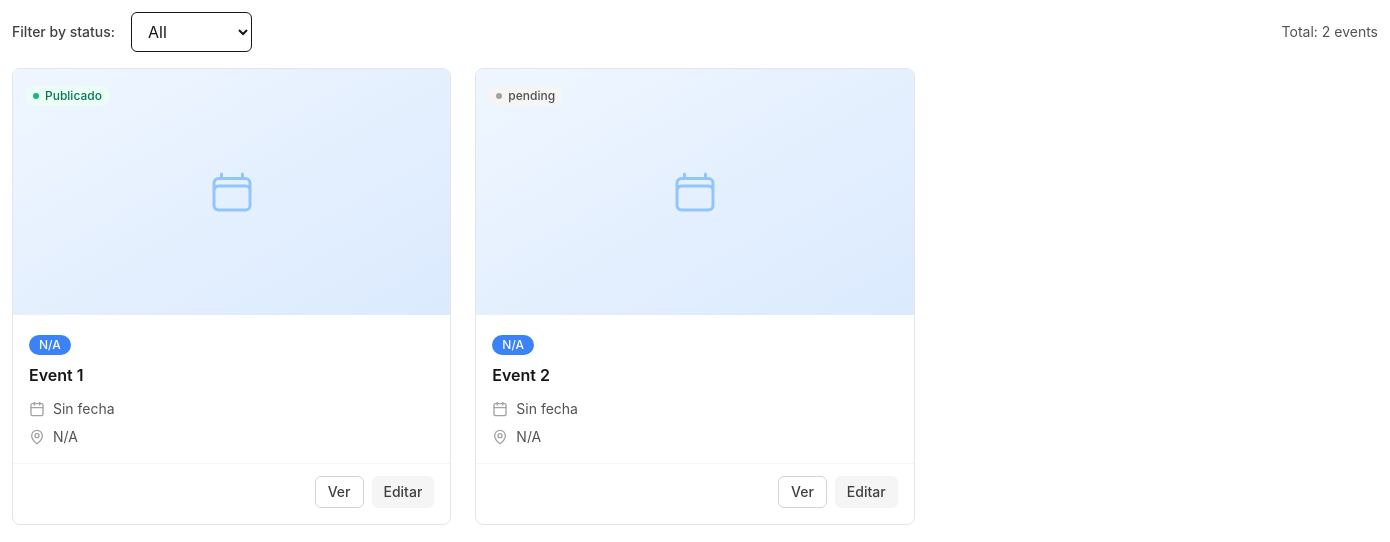
Test case: OrganizerEventList › Status Filtering › should filter events by status when filter selected
Expected: the heading "Event 1" is shown, [29, 365, 84, 385]
Expected: the heading "Event 2" is shown, [492, 365, 550, 385]
# Select "Published" filter
Step 1. Select "Published" in the dropdown labelled "Filter by status:" → (192, 32), box [131, 12, 252, 52]
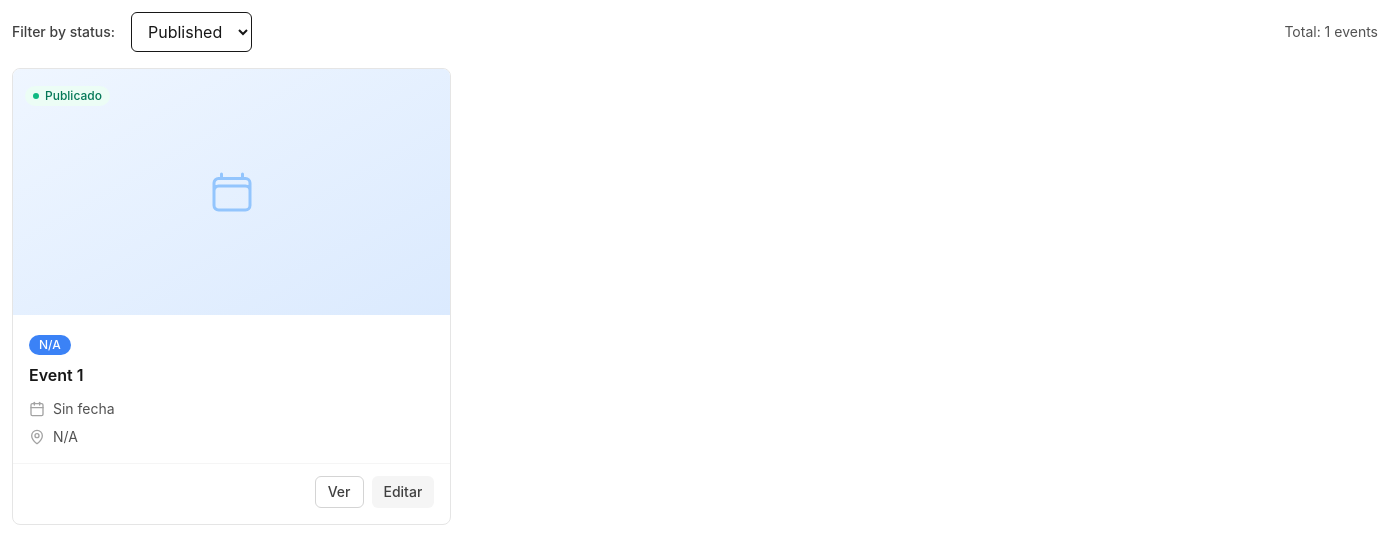
Expected: the heading "Event 1" is shown, [29, 365, 84, 385]
Now the heading "Event 2" is gone
